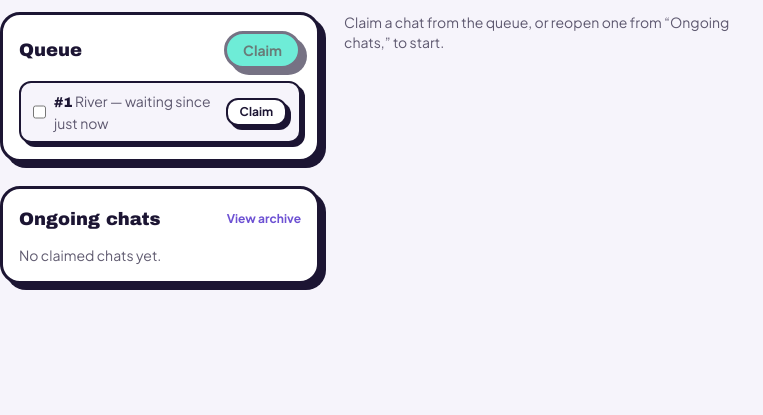
Test: AdminDashboard › claims a queue entry and opens a chat panel for it
Click the button "Claim" in the row of "River" at point(256, 112), box x1=226 y1=98 x2=287 y2=126
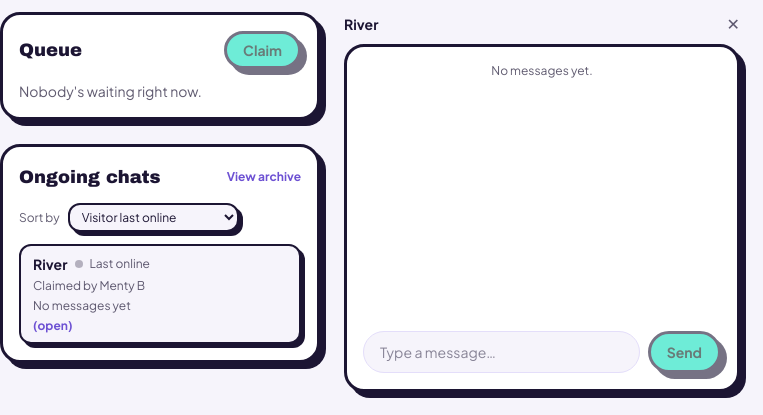
Check: the field labelled "Type a message…" is shown, box x1=363 y1=331 x2=640 y2=373
